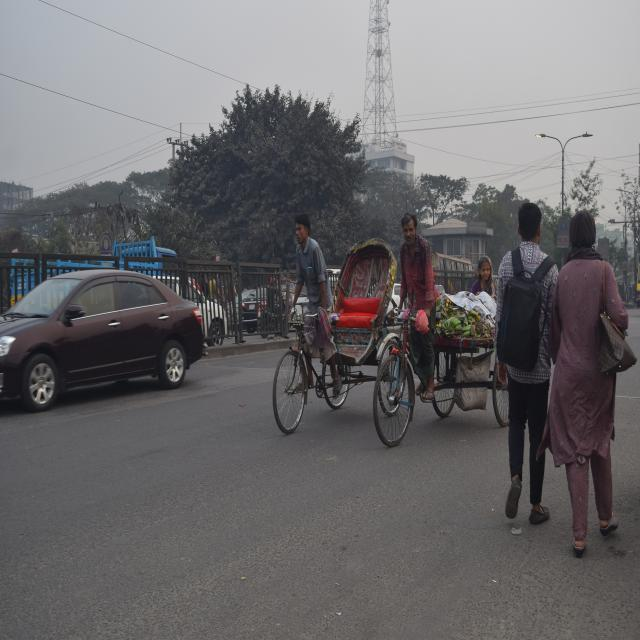bus: (432, 247, 476, 292)
car: (0, 268, 224, 435), (159, 260, 230, 354)
motorbike: (255, 295, 294, 347)
